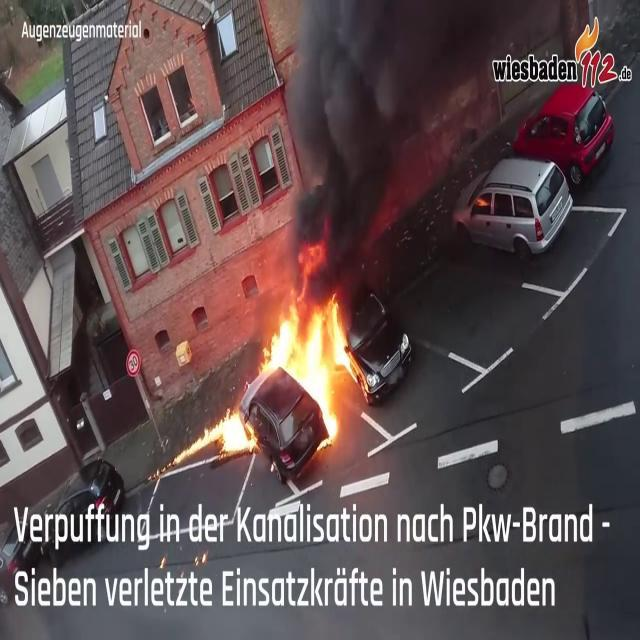Fire: (257, 278, 366, 444), (184, 401, 258, 458)
Smoke: (284, 0, 584, 246)
